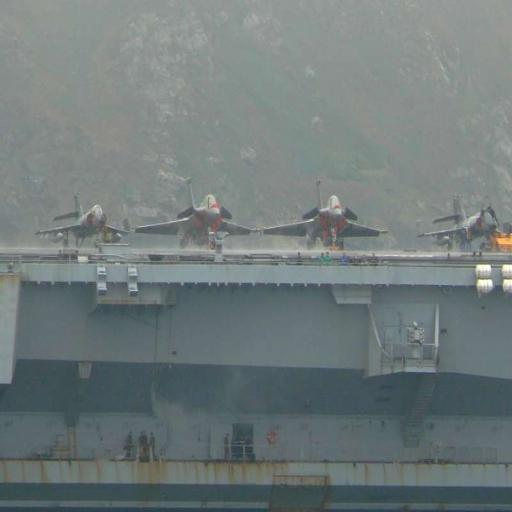Portanaves: (7, 160, 512, 470)
